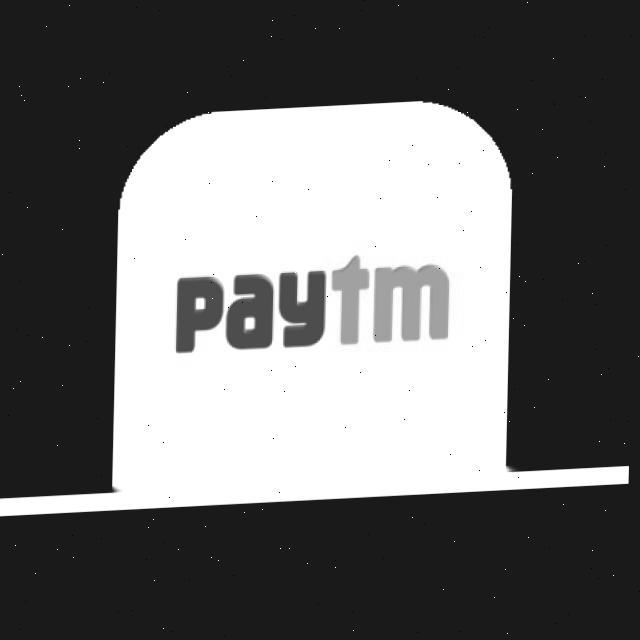fully_visible: (162, 244, 461, 377)
